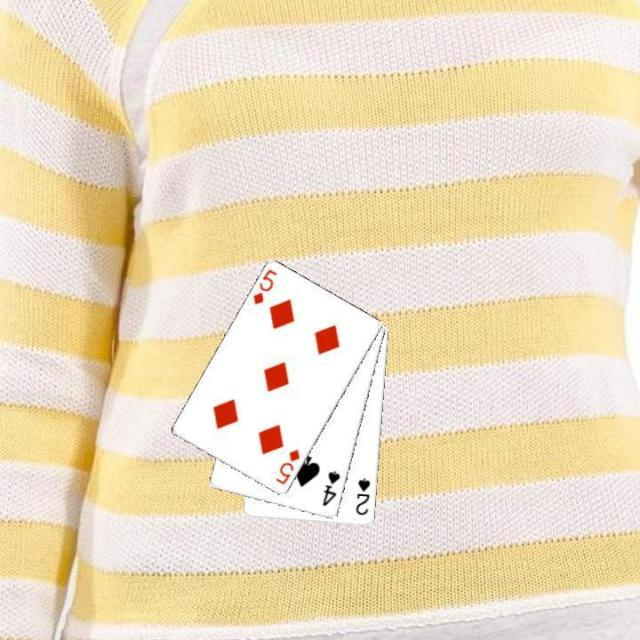2S: (352, 473, 372, 518)
4S: (319, 466, 342, 508)
5D: (272, 445, 302, 487), (249, 266, 279, 306)
